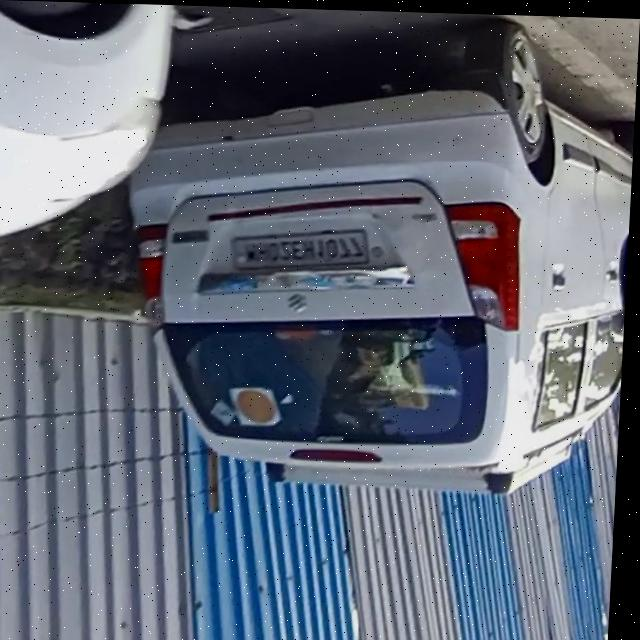plate: (231, 225, 373, 273)
